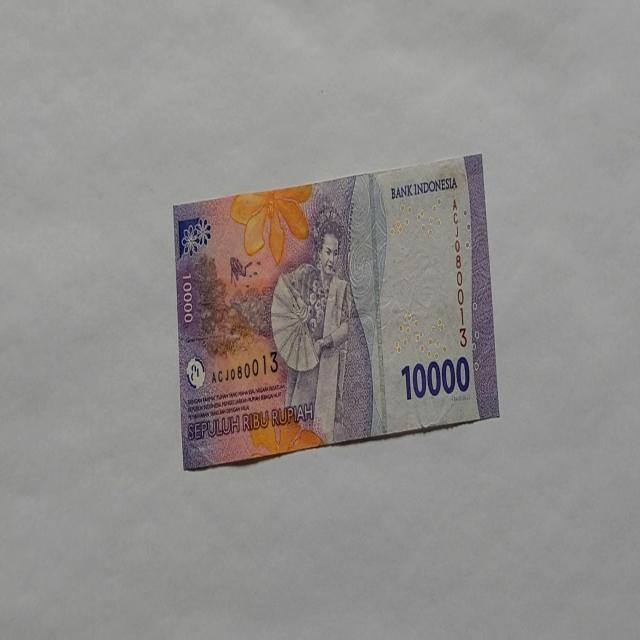sepuluh ribu rupiah: (172, 151, 500, 471)
